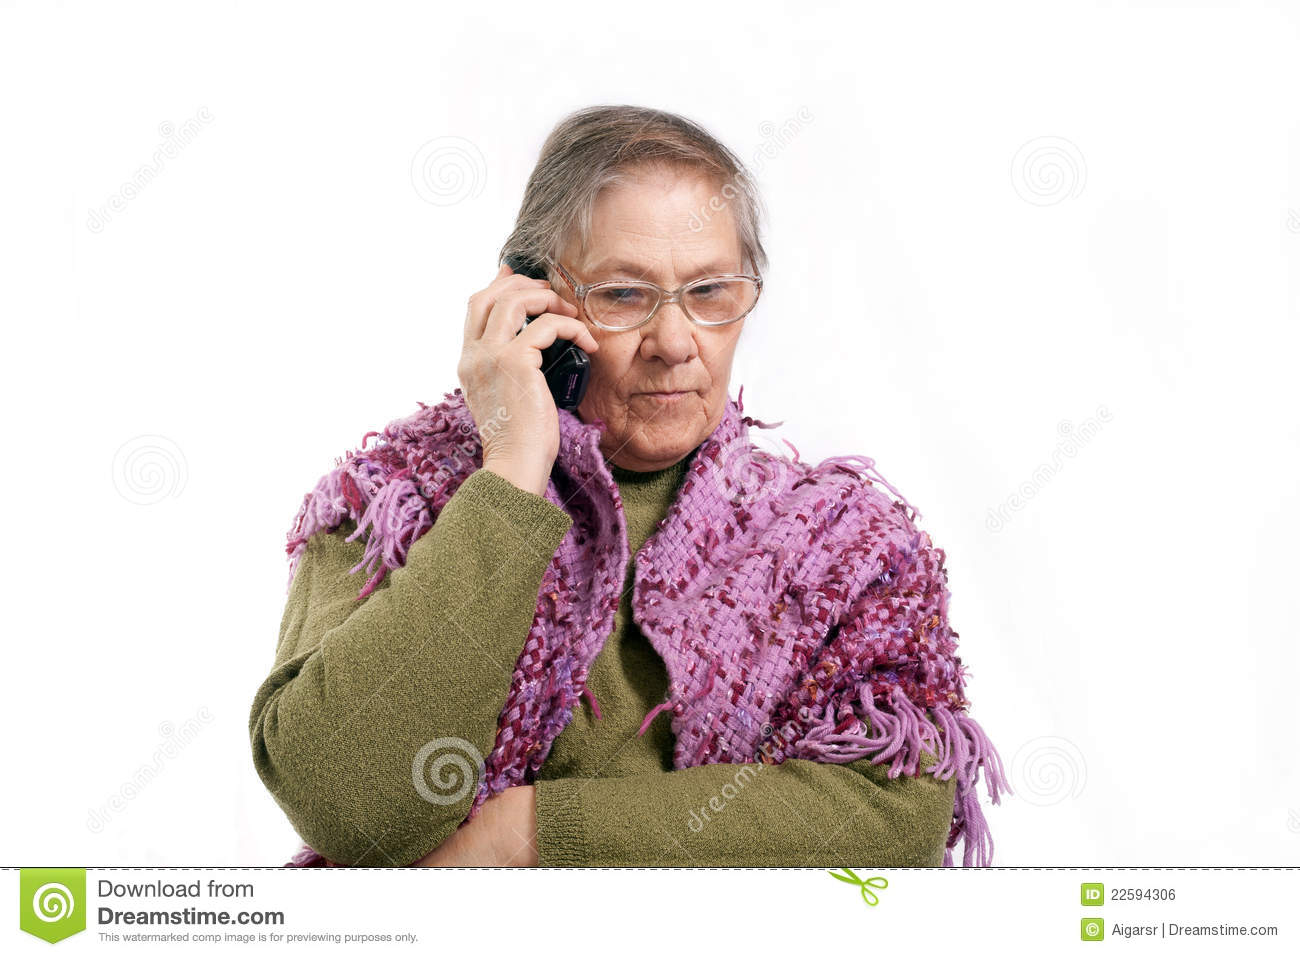phone: (501, 259, 586, 412)
talk: (459, 243, 744, 501)
